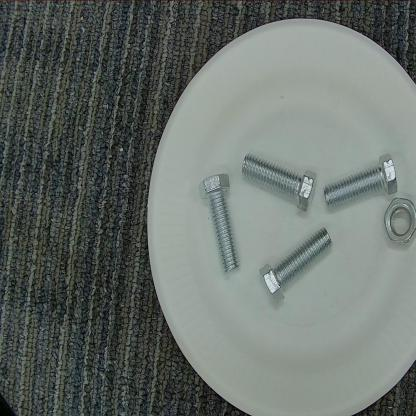FOD: (255, 224, 341, 307), (190, 170, 243, 286), (239, 144, 318, 219), (324, 151, 400, 213), (380, 194, 416, 247)
